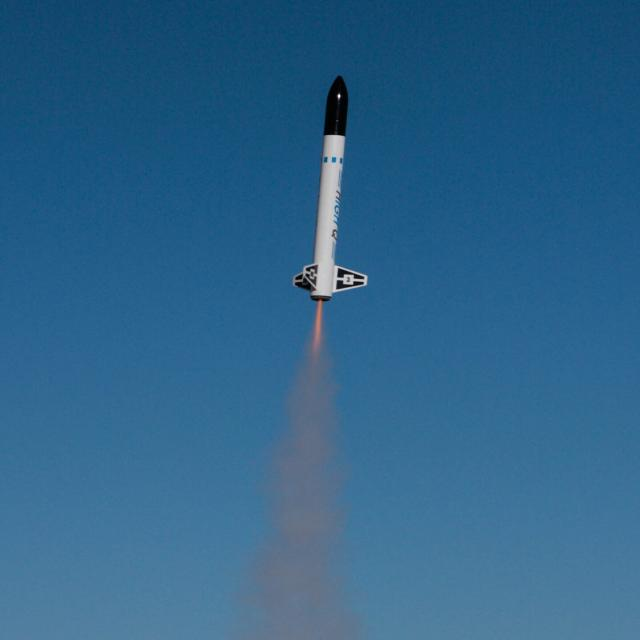Rocket: (290, 72, 370, 304)
